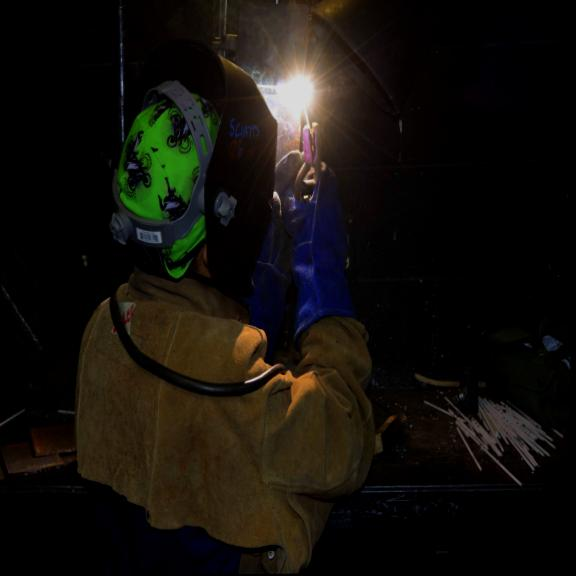no_safety_vest: (68, 281, 332, 575)
